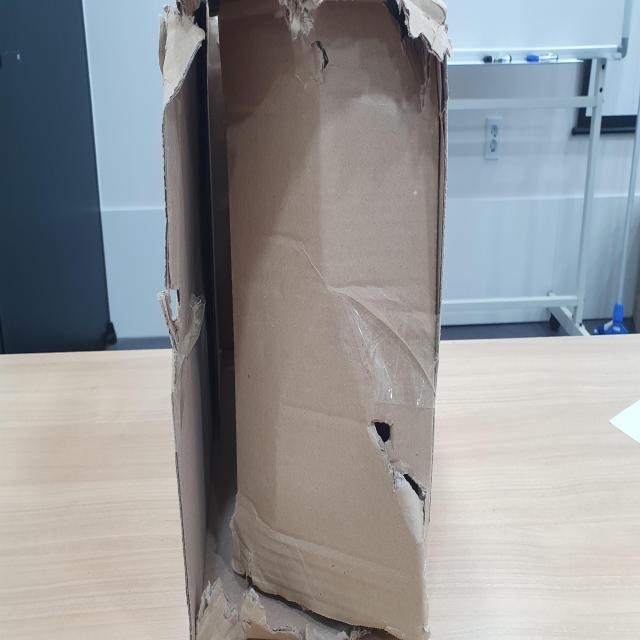damaged: (399, 469, 428, 510), (368, 406, 395, 446)
